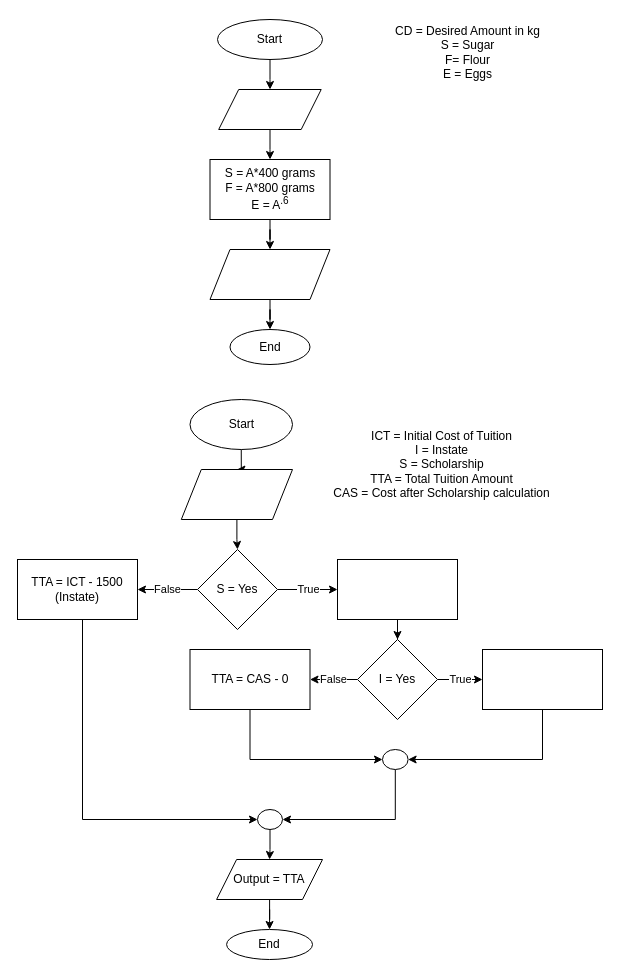
This 620x977 diagram has some shape labels left out. The centre of each missing label's shape, as x and y in pixels:
"CAS = ICT - 1000" goes at pixel 397 589.
"input = CD" goes at pixel 269 109.
"Input = I, S" goes at pixel 236 494.
"Output = S, F, E" goes at pixel 269 274.
"TTA = CAS - 1500" goes at pixel 542 679.
